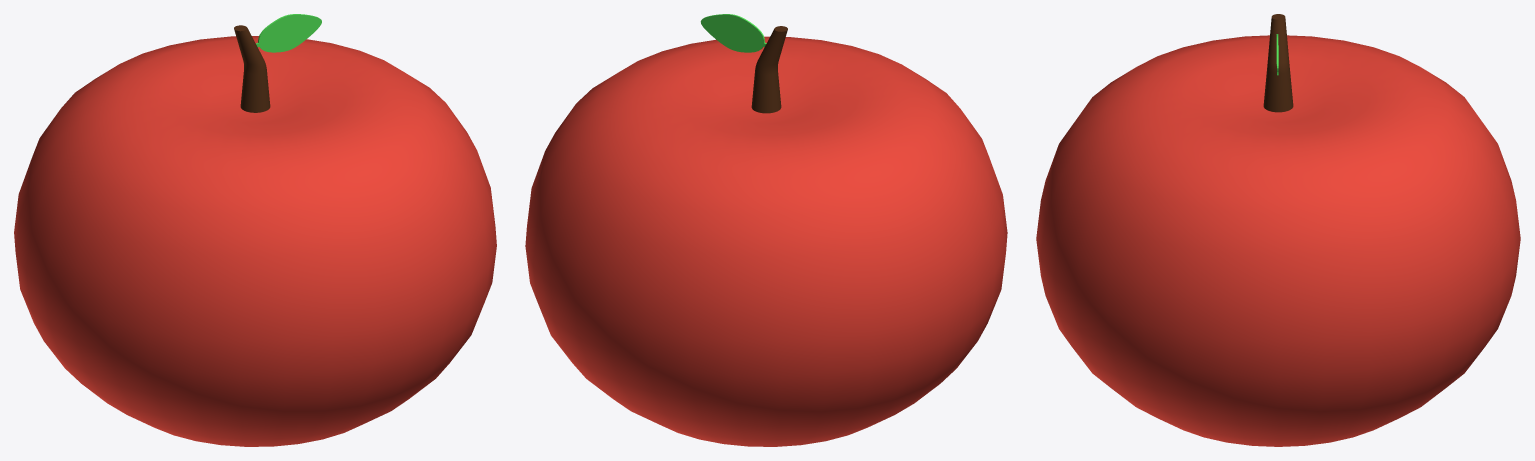
Rendered from manzana.glb.
The picture shows the model from 3 angles, left to right: view 1: azimuth 30°, elevation 25°; view 2: azimuth 150°, elevation 25°; view 3: azimuth 270°, elevation 25°; orthographic projection.
Parts seen in each view (by area): view 1: Sphere; view 2: Sphere; view 3: Sphere.
Boxes of the visible parts, left/top/right/bottom form: Sphere: left=14, top=14, right=496, bottom=446; Sphere: left=525, top=14, right=1007, bottom=446; Sphere: left=1036, top=14, right=1520, bottom=446.
Bounding box in the file's own units: 2 × 1.77 × 2.
